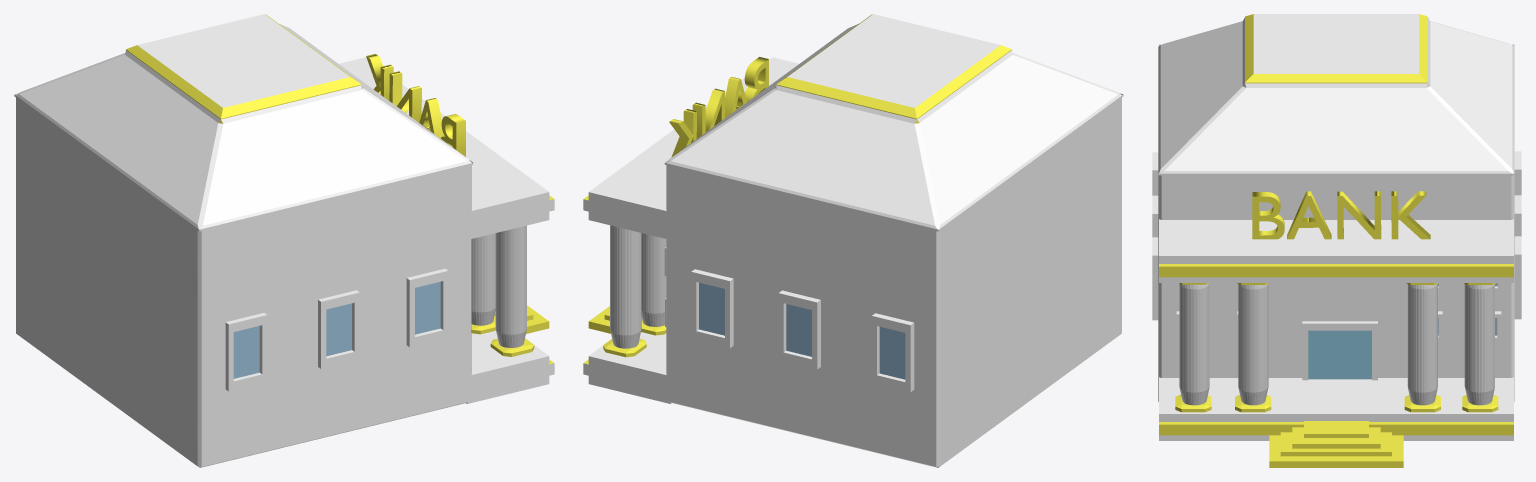
File: Bank.fbx
The picture shows the model from 3 angles, left to right: view 1: azimuth 30°, elevation 25°; view 2: azimuth 150°, elevation 25°; view 3: azimuth 270°, elevation 25°; orthographic projection. The views are drawn at different scales.
Parts seen in each view (by area): view 1: Cylinder; view 2: Cylinder; view 3: Cylinder.
Part boxes in pixels (x1=…): Cylinder: x1=14, y1=14, x2=554, y2=467; Cylinder: x1=583, y1=14, x2=1123, y2=467; Cylinder: x1=1152, y1=14, x2=1521, y2=467.
Bounding box in the file's own units: 3053 × 2204 × 2486.
